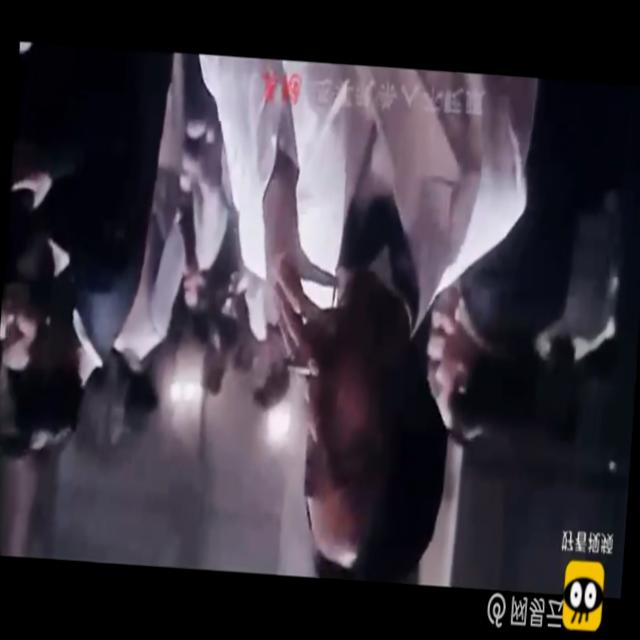cigarette: (280, 353, 312, 386)
